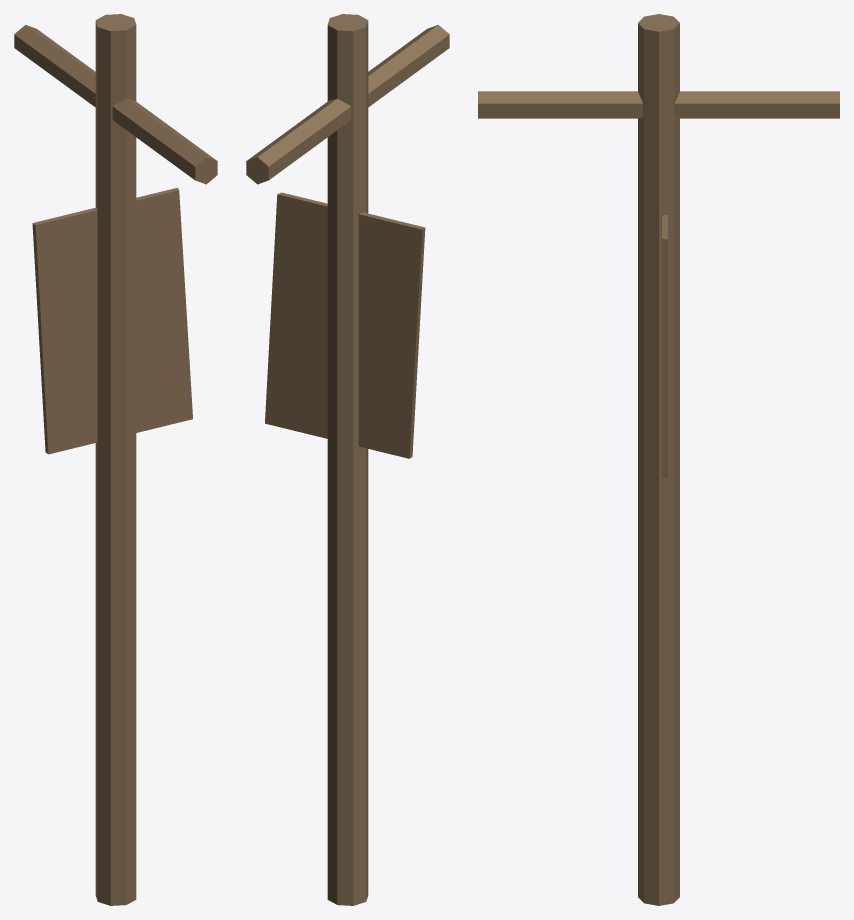
3 views of the same model, side by side, from view 1: azimuth 30°, elevation 25°; view 2: azimuth 150°, elevation 25°; view 3: azimuth 270°, elevation 25° (orthographic).
Parts seen in each view (by area): view 1: WarBanner; view 2: WarBanner; view 3: WarBanner.
Part boxes in pixels (<box>): WarBanner: <box>14,14,217,905</box>; WarBanner: <box>246,14,449,905</box>; WarBanner: <box>478,14,839,905</box>.
Size of the model in its own units: 90.52 by 480 by 180.
